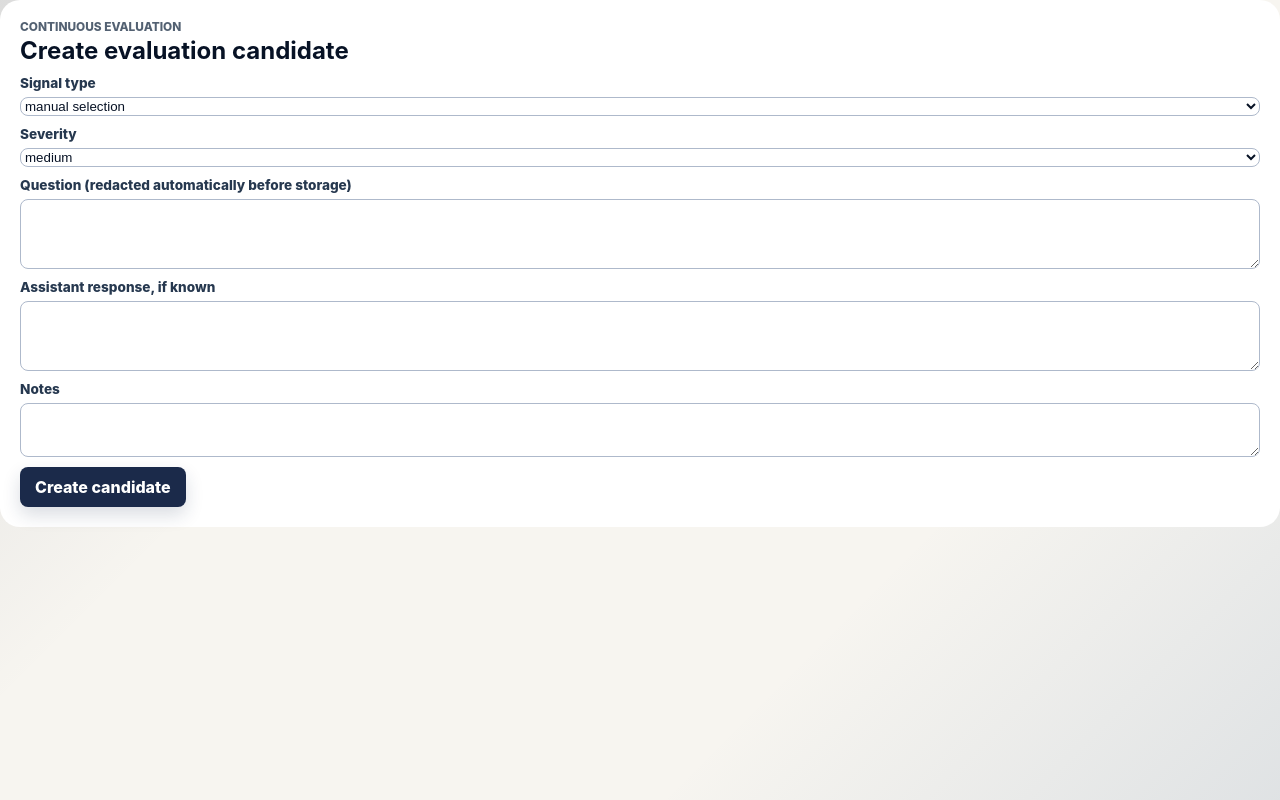
Scenario: CandidateCreateForm › requires a question before submitting
Click the button "Create candidate".
click(103, 487)  # box [20, 467, 186, 507]
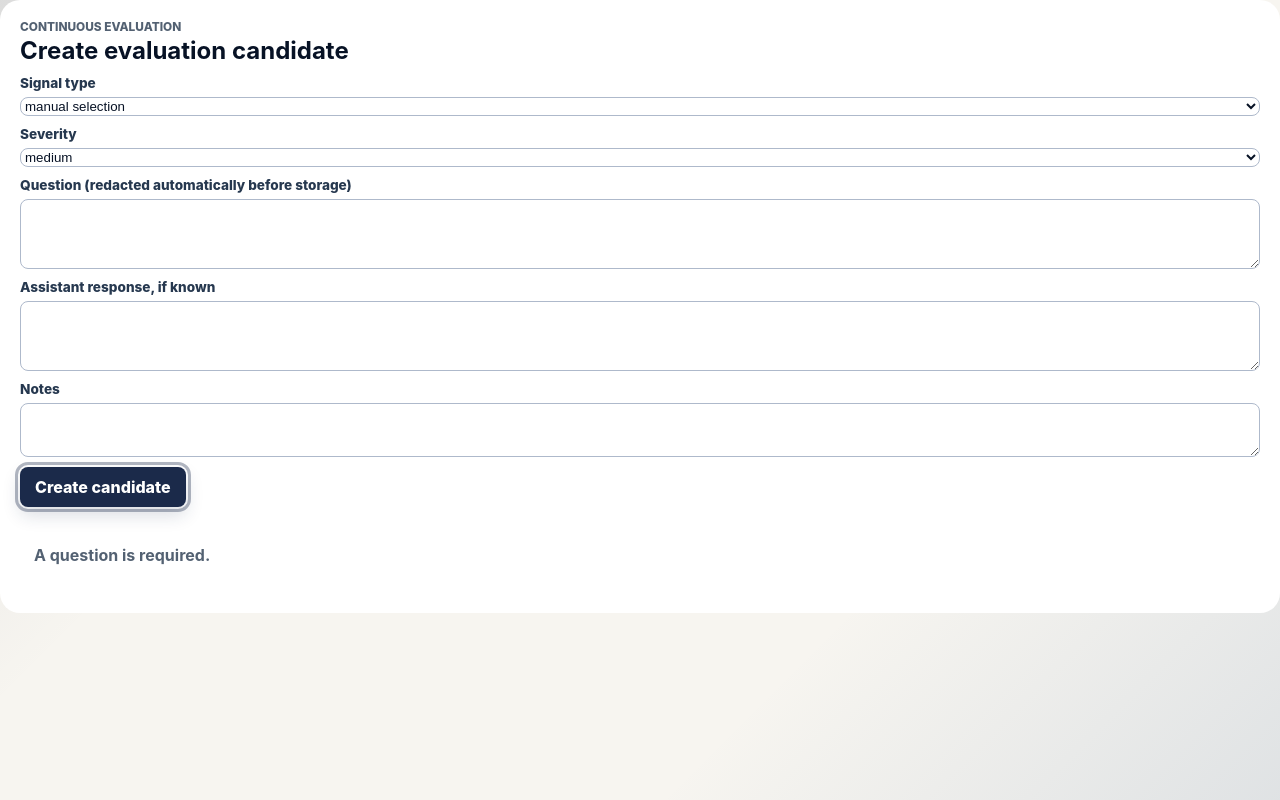
Now the text "A question is required." is shown, box [34, 545, 210, 565]
